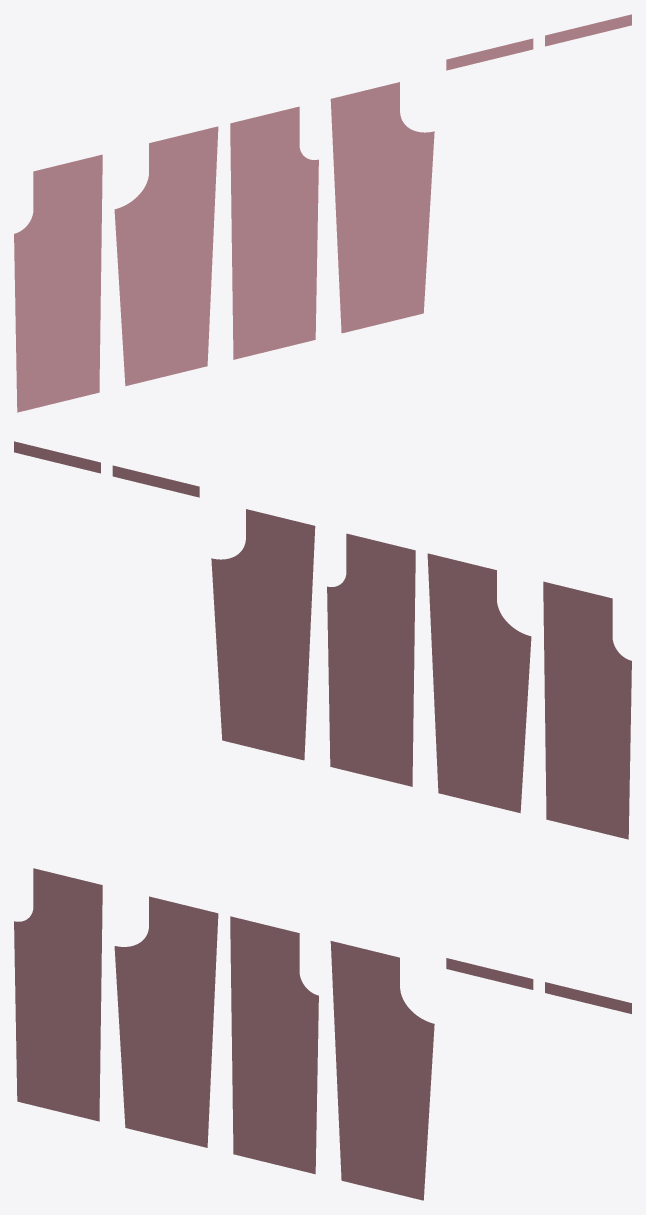
File: pantalon-sudadera-pierna-ancha-talla-L.glb
The picture shows the model from 3 angles, top to bottom: view 1: azimuth 30°, elevation 25°; view 2: azimuth 150°, elevation 25°; view 3: azimuth 330°, elevation 25°; orthographic projection.
Parts seen in each view (by area): view 1: patron-espalda-izq, patron-espalda-der, patron-delantero-izq, patron-delantero-der, patron-pretina-delantera, patron-pretina-trasera; view 2: patron-espalda-izq, patron-espalda-der, patron-delantero-izq, patron-delantero-der, patron-pretina-delantera, patron-pretina-trasera; view 3: patron-espalda-der, patron-espalda-izq, patron-delantero-izq, patron-delantero-der, patron-pretina-delantera, patron-pretina-trasera.
Boxes of the visible parts, x1=… form: patron-espalda-izq: x1=114, y1=126, x2=218, y2=386; patron-espalda-der: x1=330, y1=82, x2=434, y2=333; patron-delantero-izq: x1=14, y1=154, x2=102, y2=412; patron-delantero-der: x1=230, y1=106, x2=318, y2=359; patron-pretina-delantera: x1=446, y1=38, x2=533, y2=70; patron-pretina-trasera: x1=545, y1=14, x2=631, y2=46; patron-espalda-izq: x1=427, y1=553, x2=531, y2=813; patron-espalda-der: x1=211, y1=509, x2=315, y2=760; patron-delantero-izq: x1=543, y1=581, x2=631, y2=839; patron-delantero-der: x1=327, y1=533, x2=415, y2=786; patron-pretina-delantera: x1=112, y1=465, x2=199, y2=497; patron-pretina-trasera: x1=14, y1=441, x2=100, y2=473; patron-espalda-der: x1=330, y1=941, x2=434, y2=1200; patron-espalda-izq: x1=114, y1=896, x2=218, y2=1147; patron-delantero-izq: x1=14, y1=868, x2=102, y2=1121; patron-delantero-der: x1=230, y1=916, x2=318, y2=1174; patron-pretina-delantera: x1=446, y1=958, x2=533, y2=989; patron-pretina-trasera: x1=545, y1=982, x2=631, y2=1013.
Bounding box in the file's own units: 2.63 × 1.01 × 0.
